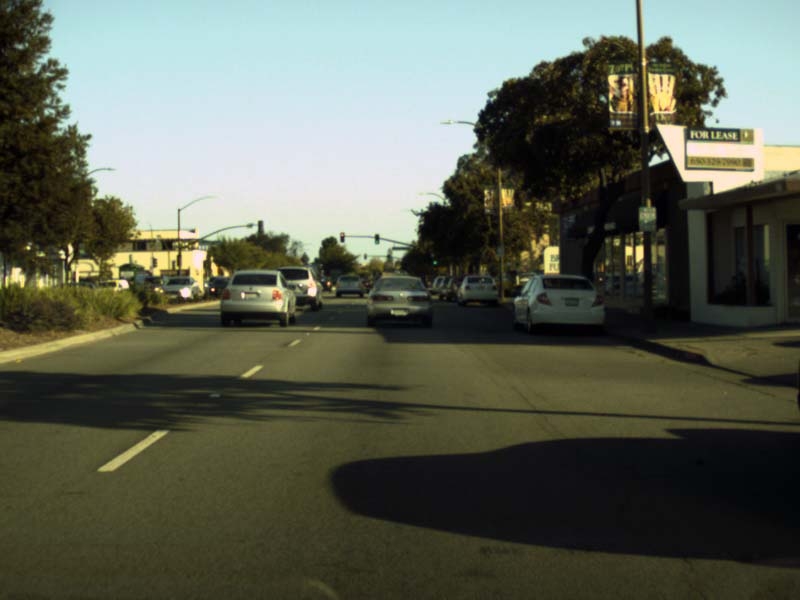Green: (374, 233, 380, 243), (432, 257, 437, 265)
Red: (339, 232, 345, 241)
